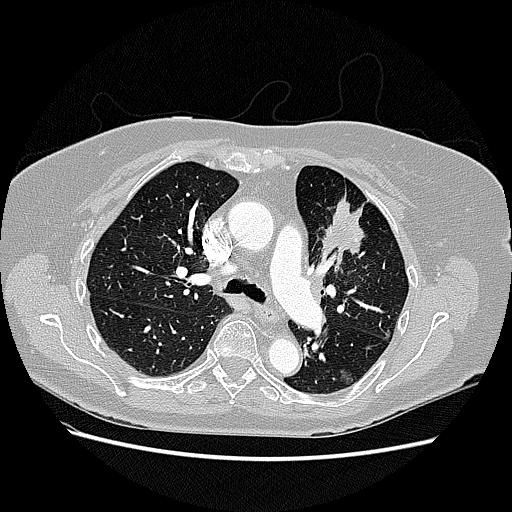nodule: (338, 369, 354, 385)
